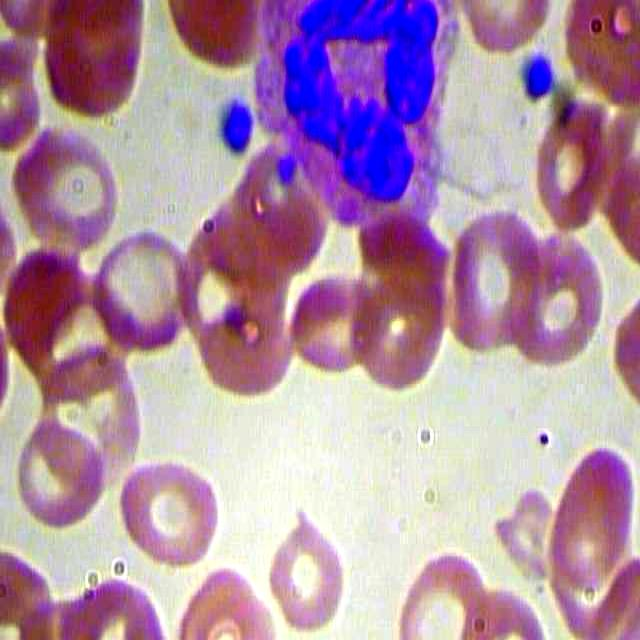Platelets: (519, 48, 562, 113), (217, 98, 256, 154)
RBC: (84, 222, 205, 362), (499, 230, 620, 370), (431, 212, 552, 352), (536, 442, 639, 606), (9, 119, 130, 258), (32, 1, 154, 126), (115, 460, 226, 569), (1, 424, 112, 533), (531, 91, 613, 229), (265, 502, 344, 634), (287, 271, 384, 378), (388, 544, 488, 640)
WBC: (251, 1, 458, 231)
